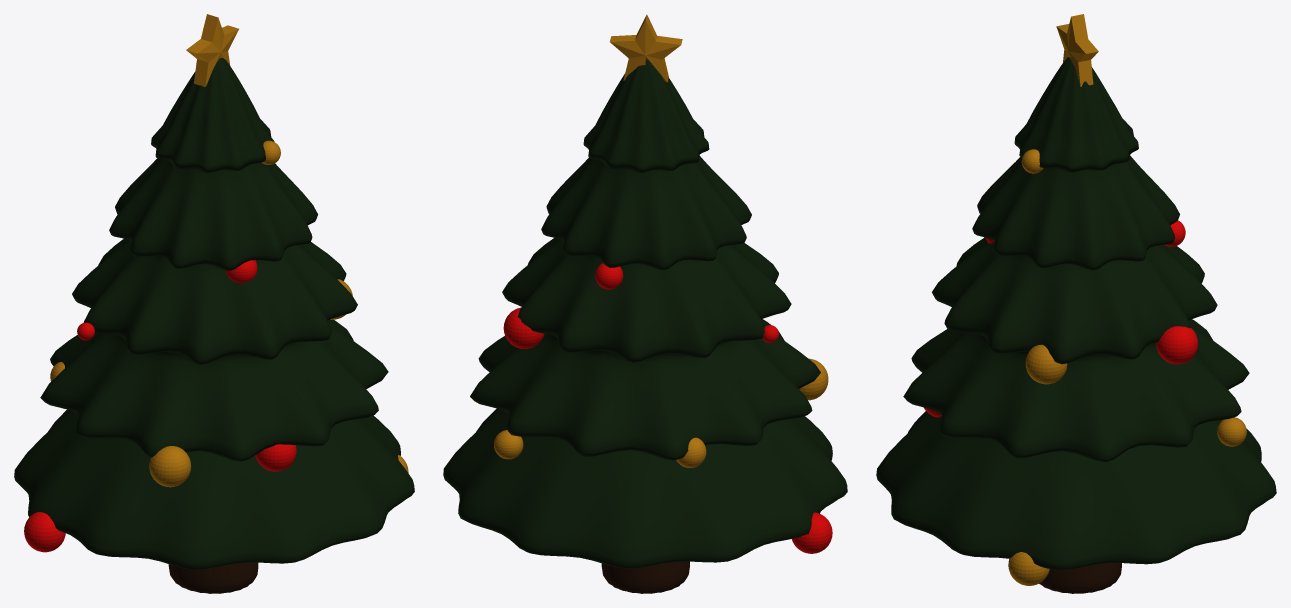
Rendered from tree.obj.
3 views of the same model, side by side, from view 1: azimuth 30°, elevation 25°; view 2: azimuth 150°, elevation 25°; view 3: azimuth 270°, elevation 25° (orthographic).
Visible parts, largest first — view 1: tree_Circle.001; view 2: tree_Circle.001; view 3: tree_Circle.001.
Part boxes in pixels (x1,y1,x2,y2): tree_Circle.001: (14, 14, 414, 593); tree_Circle.001: (443, 14, 847, 593); tree_Circle.001: (876, 14, 1276, 593).
Bounding box in the file's own units: 8.8 × 13.18 × 8.45.
